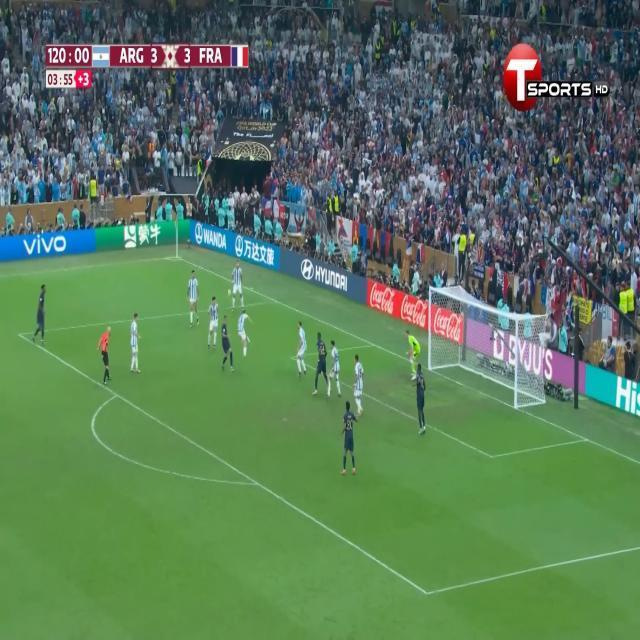goalkeeper: (404, 327, 422, 382)
player: (338, 397, 356, 478), (414, 358, 429, 441), (32, 284, 51, 346), (128, 309, 142, 383), (230, 256, 247, 316), (351, 353, 366, 420), (220, 312, 235, 378), (236, 306, 254, 359), (185, 265, 199, 331), (205, 293, 220, 353), (292, 321, 307, 380), (314, 330, 328, 392), (330, 338, 343, 399)
referee: (97, 324, 115, 389)
